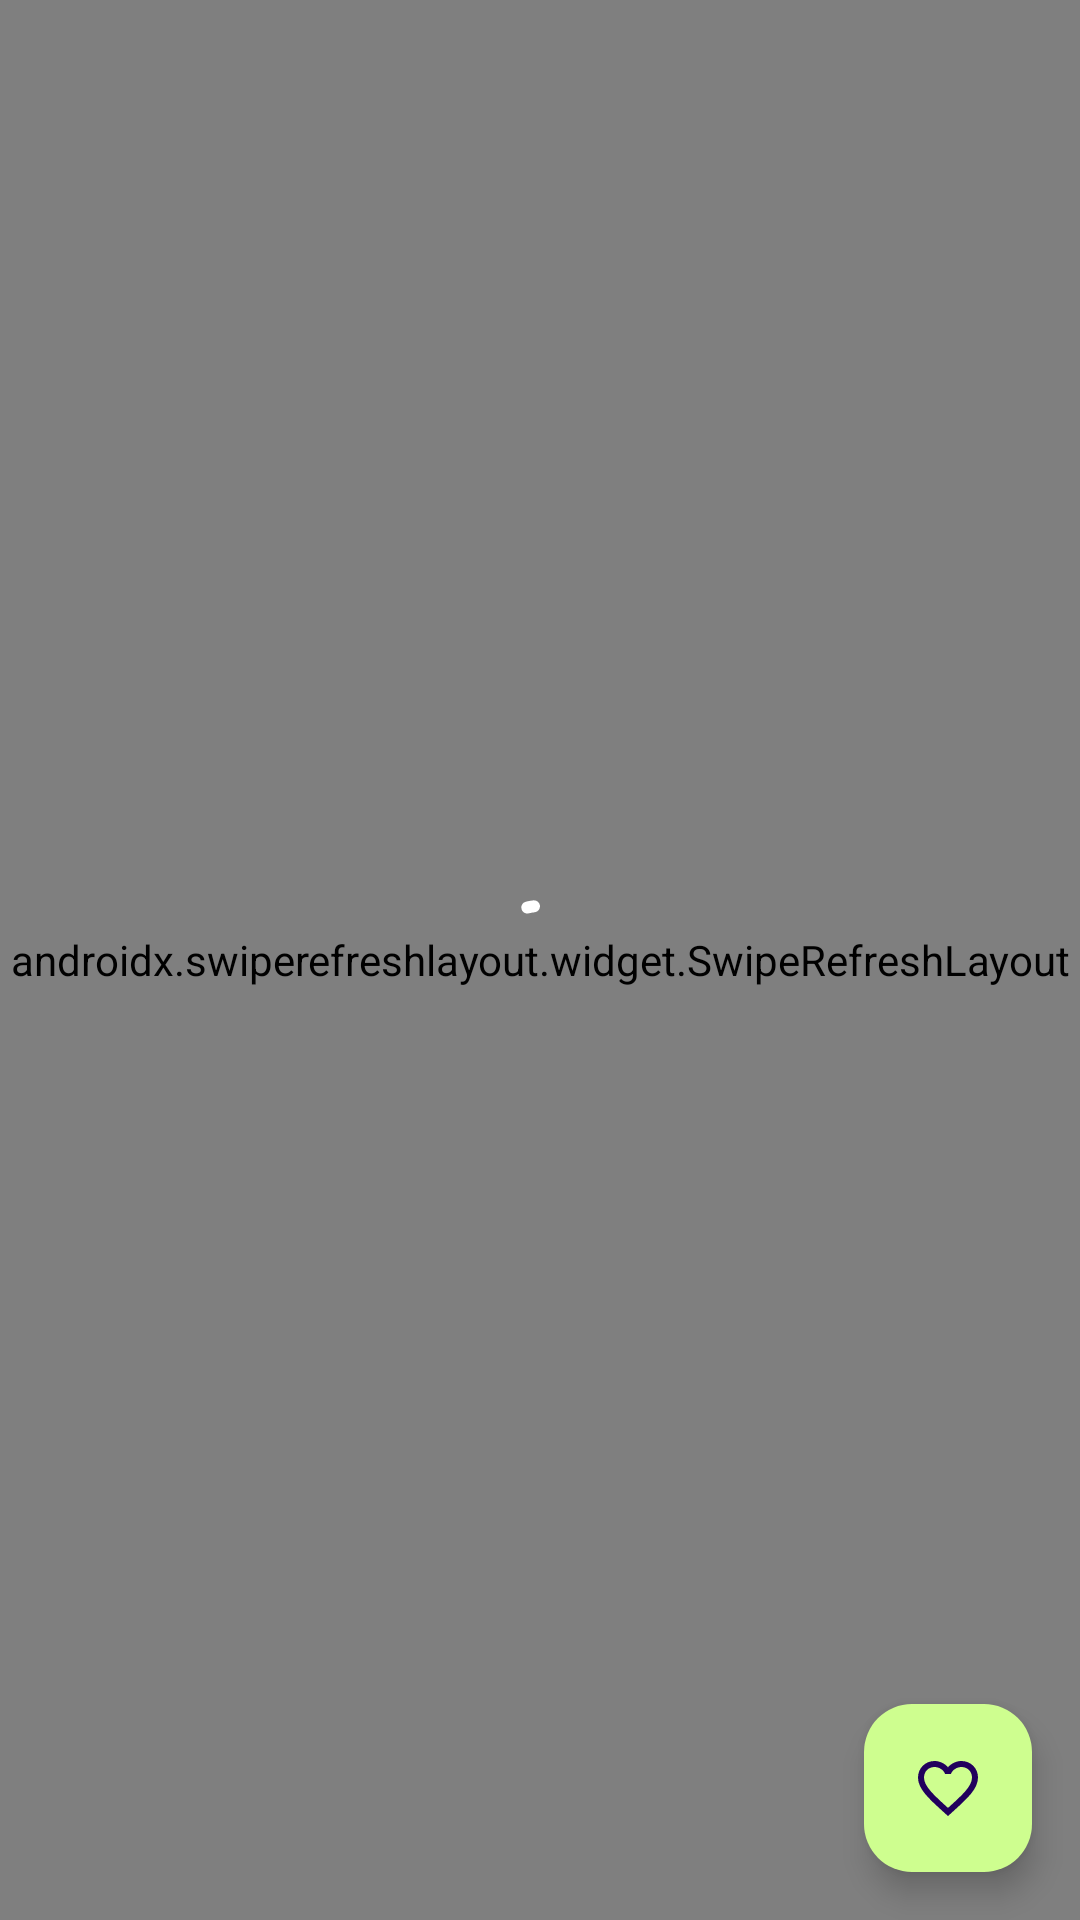

Where to tap for icons on this 1080px×1920px app screen, as (x,y):
favorite border: (948,1788)
